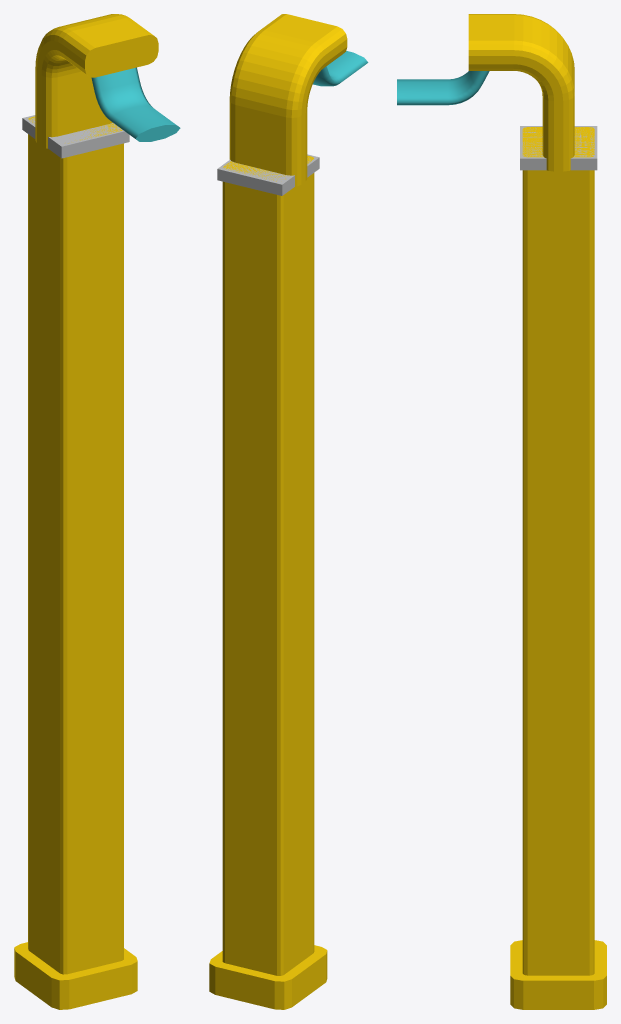
Rendered from Fiber_Waterfall.glb.
The picture shows the model from 3 angles, left to right: view 1: azimuth 30°, elevation 25°; view 2: azimuth 150°, elevation 25°; view 3: azimuth 270°, elevation 25°; orthographic projection. The views are drawn at different scales.
Parts seen in each view (by area): view 1: Drop_4x4, Spill_Hood, Drop_Flare, FLOW_fiber_drop, Drop_Clip_Top; view 2: Drop_4x4, Spill_Hood, Drop_Flare, Drop_Clip_Top, FLOW_fiber_drop; view 3: Drop_4x4, Spill_Hood, Drop_Flare, FLOW_fiber_drop, Drop_Clip_Top.
Part boxes in pixels (x1=…): Drop_4x4: x1=28, y1=116, x2=123, y2=974; Spill_Hood: x1=35, y1=14, x2=158, y2=148; Drop_Flare: x1=14, y1=942, x2=137, y2=1009; FLOW_fiber_drop: x1=91, y1=67, x2=180, y2=141; Drop_Clip_Top: x1=22, y1=115, x2=129, y2=158; Drop_4x4: x1=222, y1=155, x2=314, y2=975; Spill_Hood: x1=229, y1=14, x2=347, y2=186; Drop_Flare: x1=209, y1=945, x2=327, y2=1009; Drop_Clip_Top: x1=217, y1=154, x2=319, y2=195; FLOW_fiber_drop: x1=313, y1=51, x2=368, y2=86; Drop_4x4: x1=522, y1=127, x2=594, y2=975; Spill_Hood: x1=468, y1=14, x2=574, y2=171; Drop_Flare: x1=510, y1=940, x2=606, y2=1009; FLOW_fiber_drop: x1=397, y1=71, x2=489, y2=105; Drop_Clip_Top: x1=520, y1=126, x2=597, y2=170.
Size of the model in its own units: 0.15 by 1.65 by 0.326.
